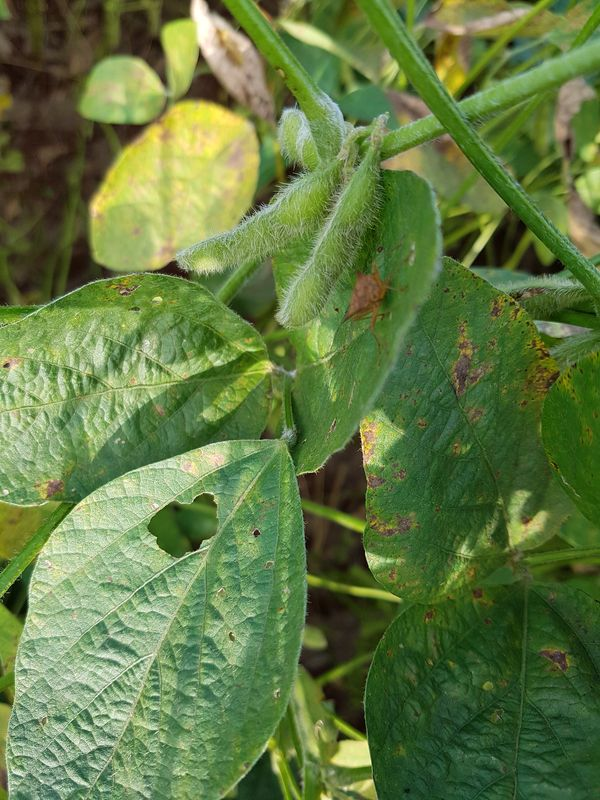Euschistus_heros_adulto: (327, 261, 411, 348)
